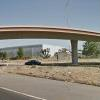Bridge: (2, 16, 97, 52)
